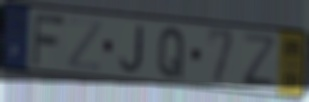7: (206, 26, 235, 89)
F: (30, 11, 68, 68)
J: (117, 24, 145, 75)
Q: (156, 25, 188, 80)
Z: (65, 16, 104, 73), (240, 30, 277, 89)
